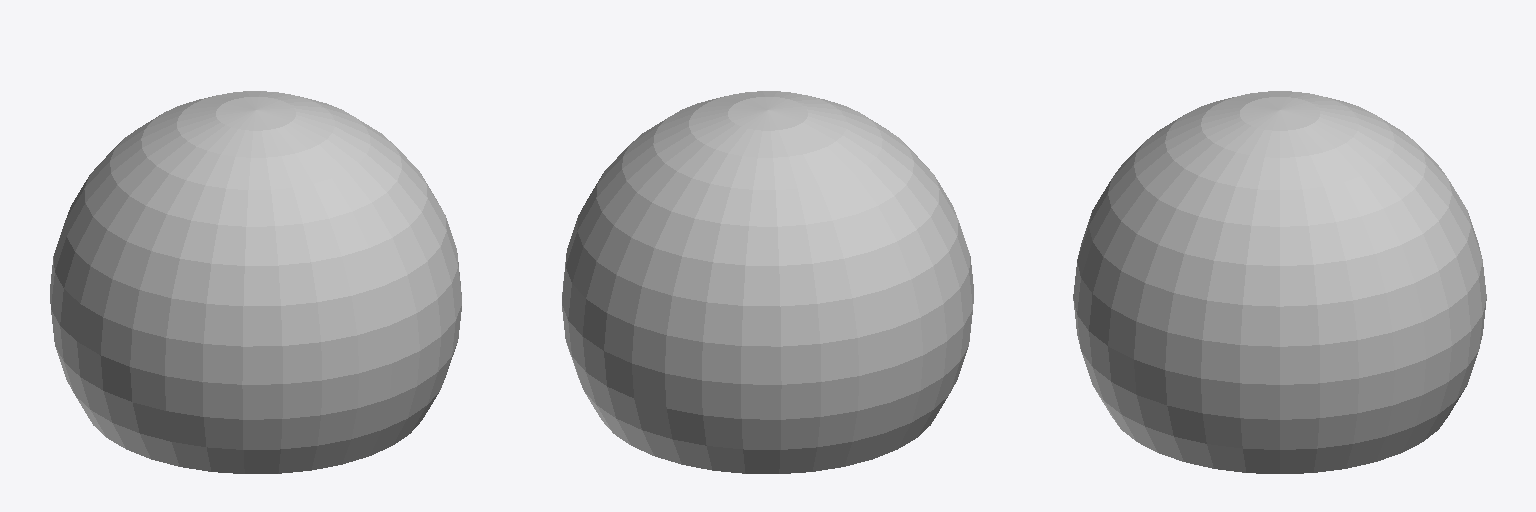
Rendered from MaskPlaceholder.obj.
3 renders of one model, left to right at view 1: azimuth 30°, elevation 25°; view 2: azimuth 150°, elevation 25°; view 3: azimuth 270°, elevation 25°, orthographic.
Parts seen in each view (by area): view 1: Sphere; view 2: Sphere; view 3: Sphere.
Boxes of the visible parts, x1=… form: Sphere: x1=50, y1=91, x2=461, y2=473; Sphere: x1=562, y1=91, x2=973, y2=473; Sphere: x1=1073, y1=91, x2=1486, y2=473.
Size of the model in its own units: 2 by 1.56 by 2.